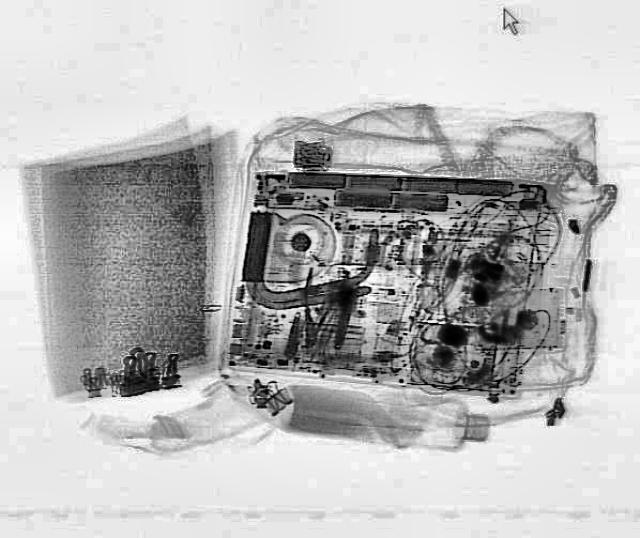Pliers: (288, 265, 349, 348)
